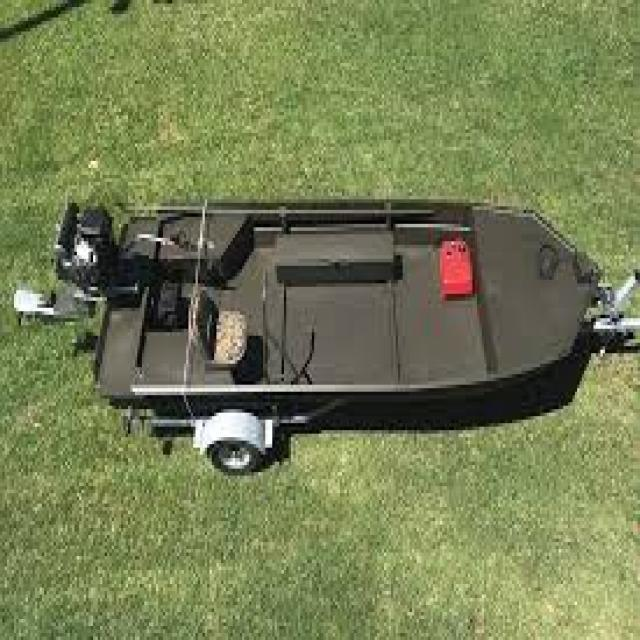ship2: (61, 198, 606, 428)
